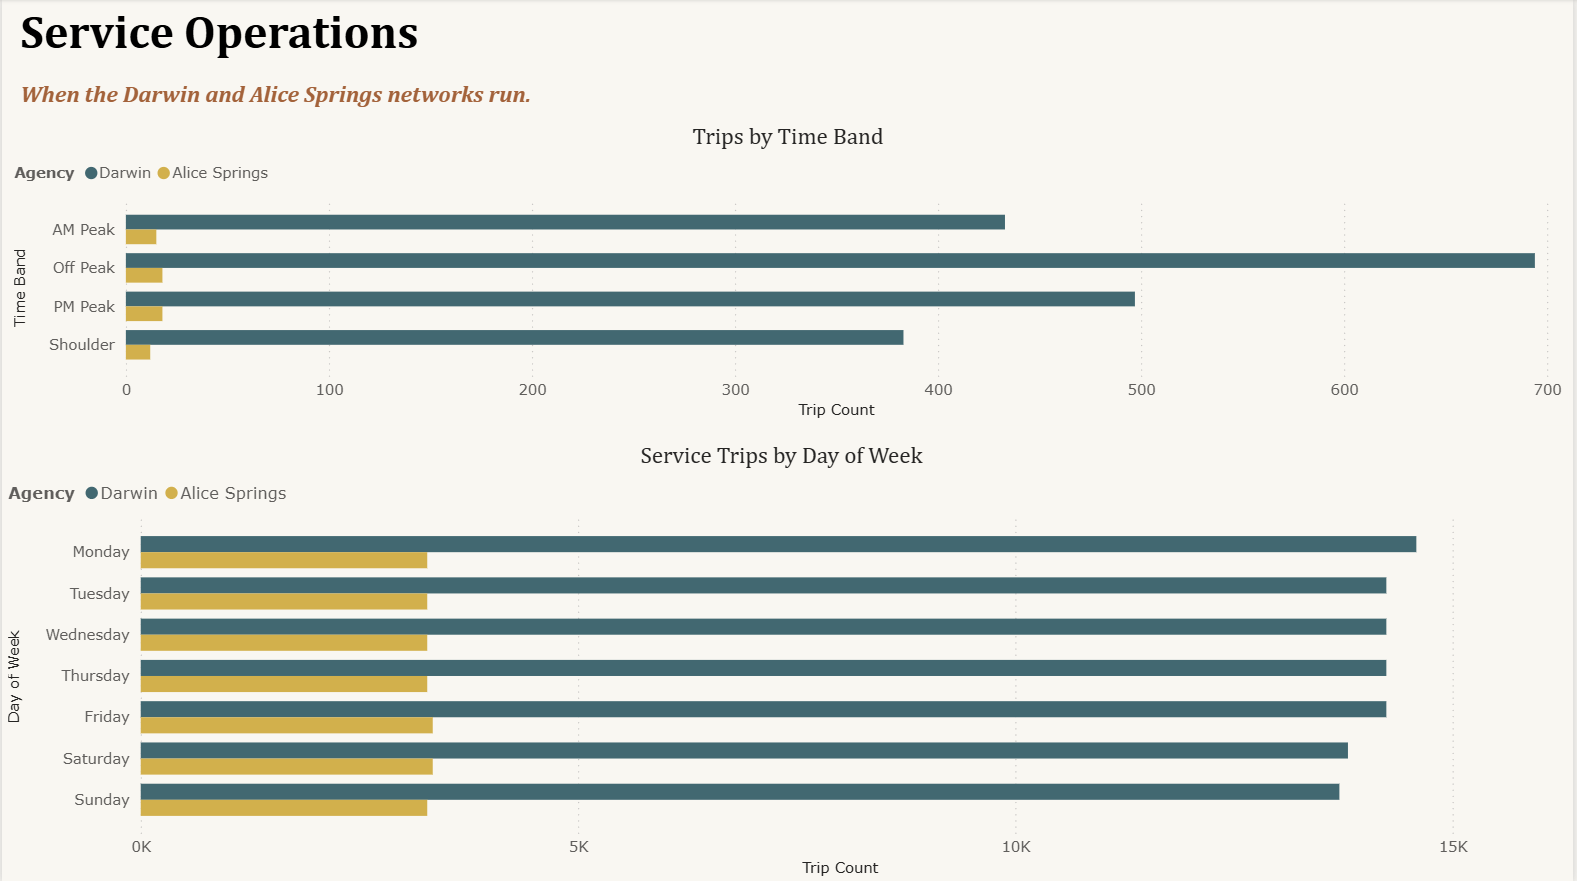

The dashboard page shown, as its layout file describes it:
{"tool":"powerbi","page":{"name":"Service Operations","canvas":[1280,720],"ordinal":2},"visuals":[{"type":"textbox","box":[9.6,0,1270.4,70],"z":0},{"type":"textbox","box":[9.6,61.3,1270.4,38.5],"z":1000},{"type":"clusteredBarChart","title":"Service Trips by Day of Week","fields":{"Category":["wh_cdc_nt dim_date.day_of_week"],"Y":["CountNonNull(wh_cdc_nt trip_kpis.trip_id)"],"Series":["wh_cdc_nt dim_agency.agency_display_name"]},"box":[0,359.8,1269.7,359.8],"z":2000},{"type":"clusteredBarChart","title":"Trips by Time Band","fields":{"Y":["CountNonNull(wh_cdc_nt trip_timebands.trip_id)"],"Category":["wh_cdc_nt trip_timebands.Timeband Display"],"Series":["wh_cdc_nt dim_agency.agency_display_name"]},"box":[5.2,99.9,1270.5,247],"z":3000}]}

Visuals, with their boxes in screenshot pixels (x1, y1, x2, y2), scaled from the page's 1280x720 canvas onto the 1577x881 screenshot:
textbox: (12, 0, 1576, 86)
textbox: (12, 75, 1576, 122)
"Service Trips by Day of Week" clusteredBarChart: (0, 440, 1564, 880)
"Trips by Time Band" clusteredBarChart: (6, 122, 1572, 424)
